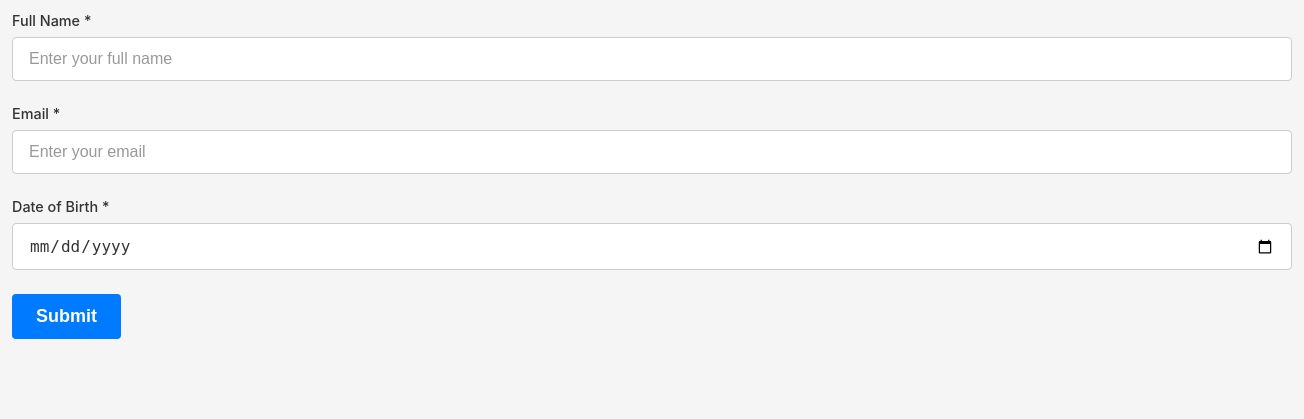
Test case: DynamicFormBuilder Component › validates required fields
Click the button "Submit" at (66, 316), box 12,294 -> 121,339
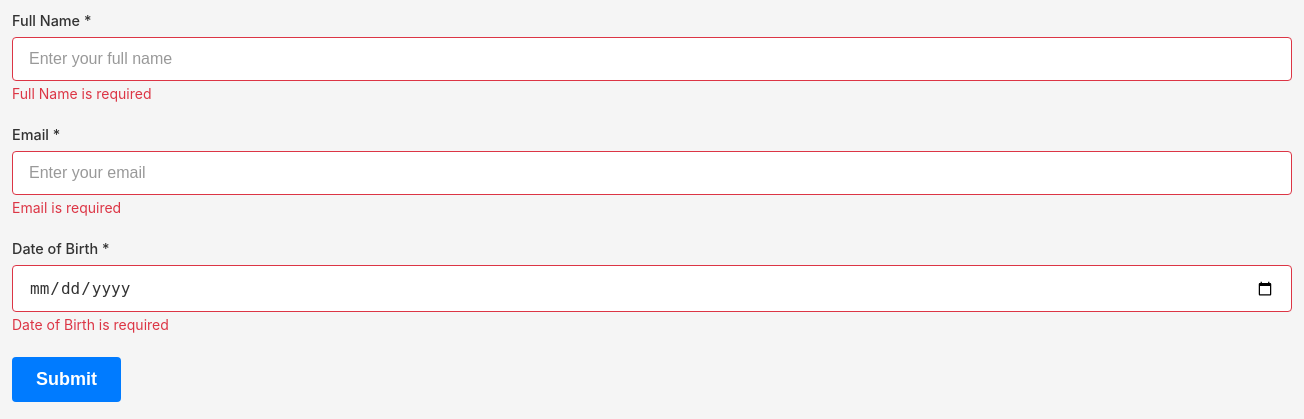
Now the text "Full Name is required" is shown, box 12,85 -> 152,102
Now the text "Email is required" is shown, box 12,199 -> 121,216
Now the text "Date of Birth is required" is shown, box 12,316 -> 169,333
